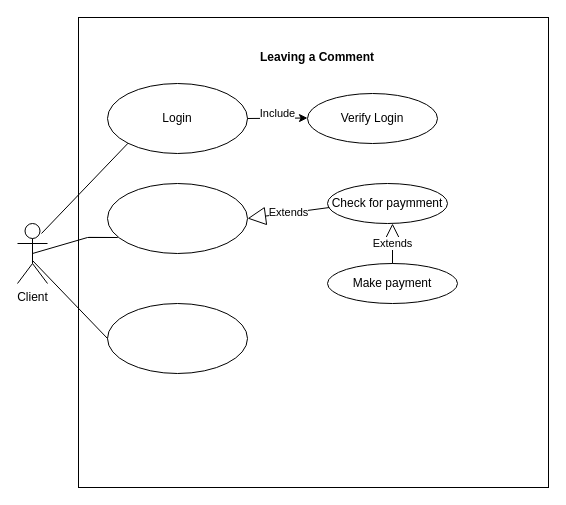
The diagram is 566 pixels wide and 505 high, and some of its shapes have lost their labels. Here are the shapes that lost their labels. From the top down, the centre of each, then its label:
(x=177, y=218): Select Job
(x=177, y=338): Comment
